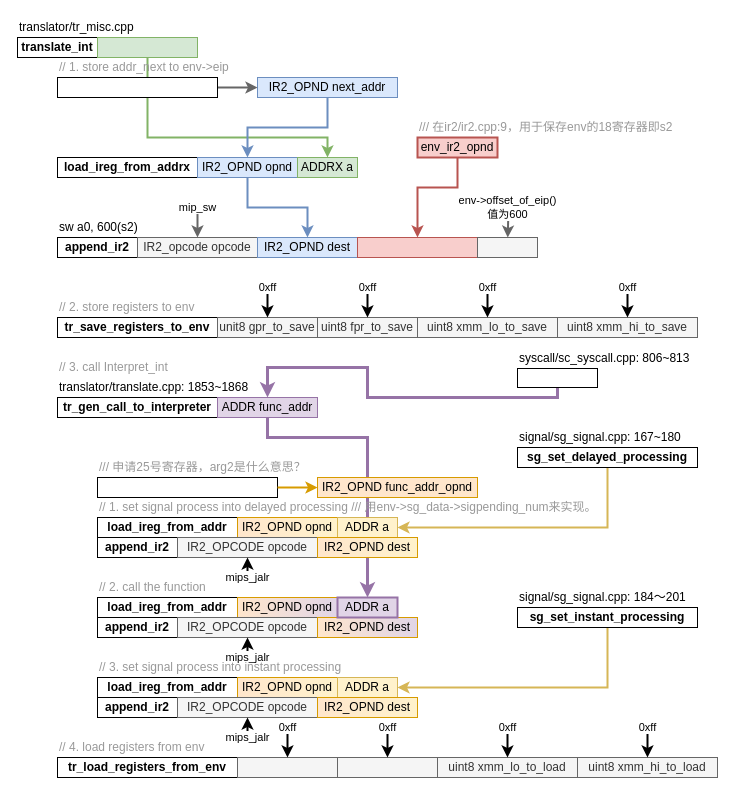
The diagram is 735 pixels wide and 795 high, and some of its shapes have lost their labels. The shapes that lost their labels are listed below. From the top down, each one's centre as x and y in pixels, then its label:
the point at 147,47: IR1_INST *pir1
the point at 137,87: IR2_OPND ra_alloc_itemp
the point at 417,247: const IR2_OPND src
the point at 507,247: int32 imm
the point at 557,378: interpret_int
the point at 187,487: IR2_OPND ra_alloc_dbt_arg2
the point at 287,767: uint8 gpr_to_load
the point at 387,767: uint8 fpr_to_load
